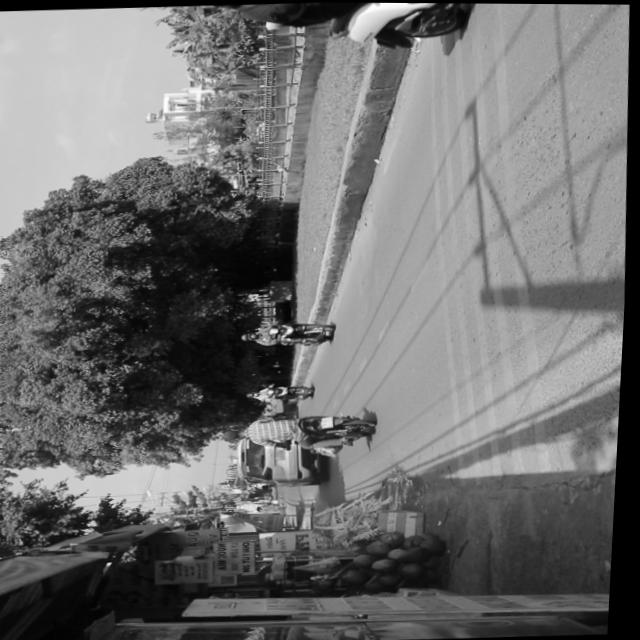licenseplate: (179, 1, 479, 56), (224, 407, 378, 453)
motorcyclist: (225, 426, 248, 441)
nohelmet: (322, 415, 337, 428)
